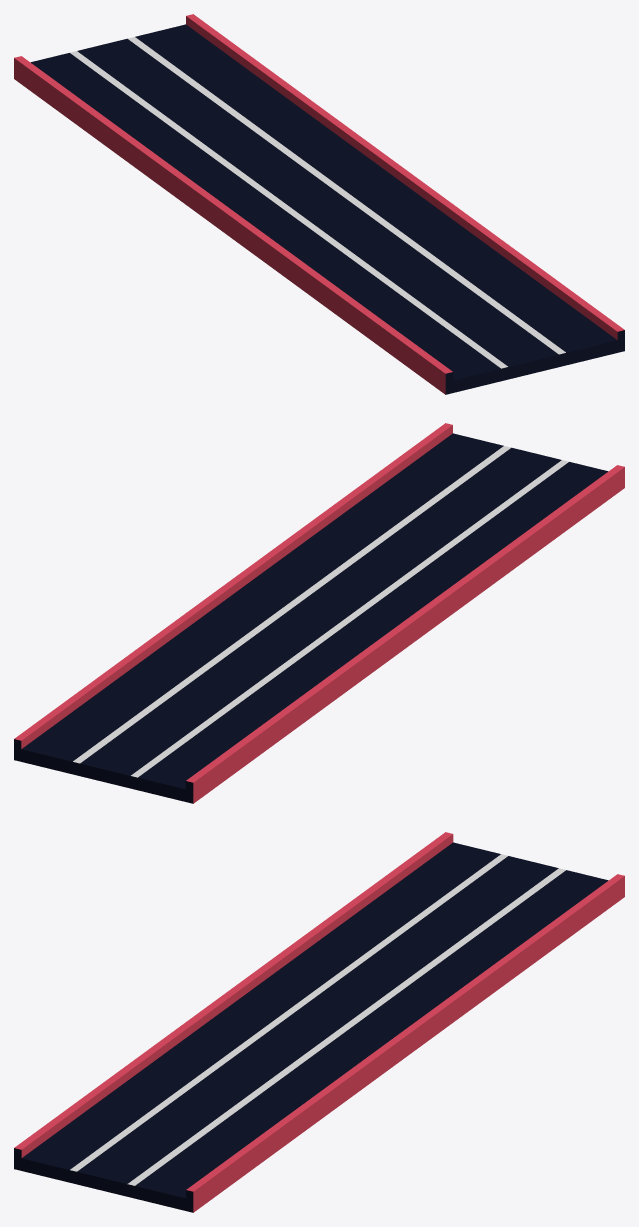
The model's file is road.glb.
3 renders of one model, top to bottom at view 1: azimuth 30°, elevation 25°; view 2: azimuth 150°, elevation 25°; view 3: azimuth 330°, elevation 25°, orthographic.
Visible parts, largest first — view 1: Cube; view 2: Cube; view 3: Cube.
Boxes of the visible parts, left/top/right/bottom form: Cube: left=14, top=14, right=624, bottom=394; Cube: left=14, top=423, right=624, bottom=803; Cube: left=14, top=832, right=624, bottom=1212.
Bounding box in the file's own units: 12 × 1.35 × 50.
